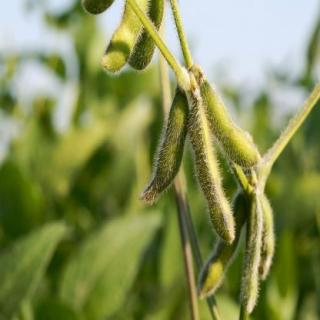soya: (188, 98, 238, 245), (138, 94, 189, 204), (200, 78, 262, 168), (197, 194, 246, 304), (99, 0, 146, 75), (238, 192, 262, 314), (128, 0, 165, 70), (260, 192, 276, 280)
